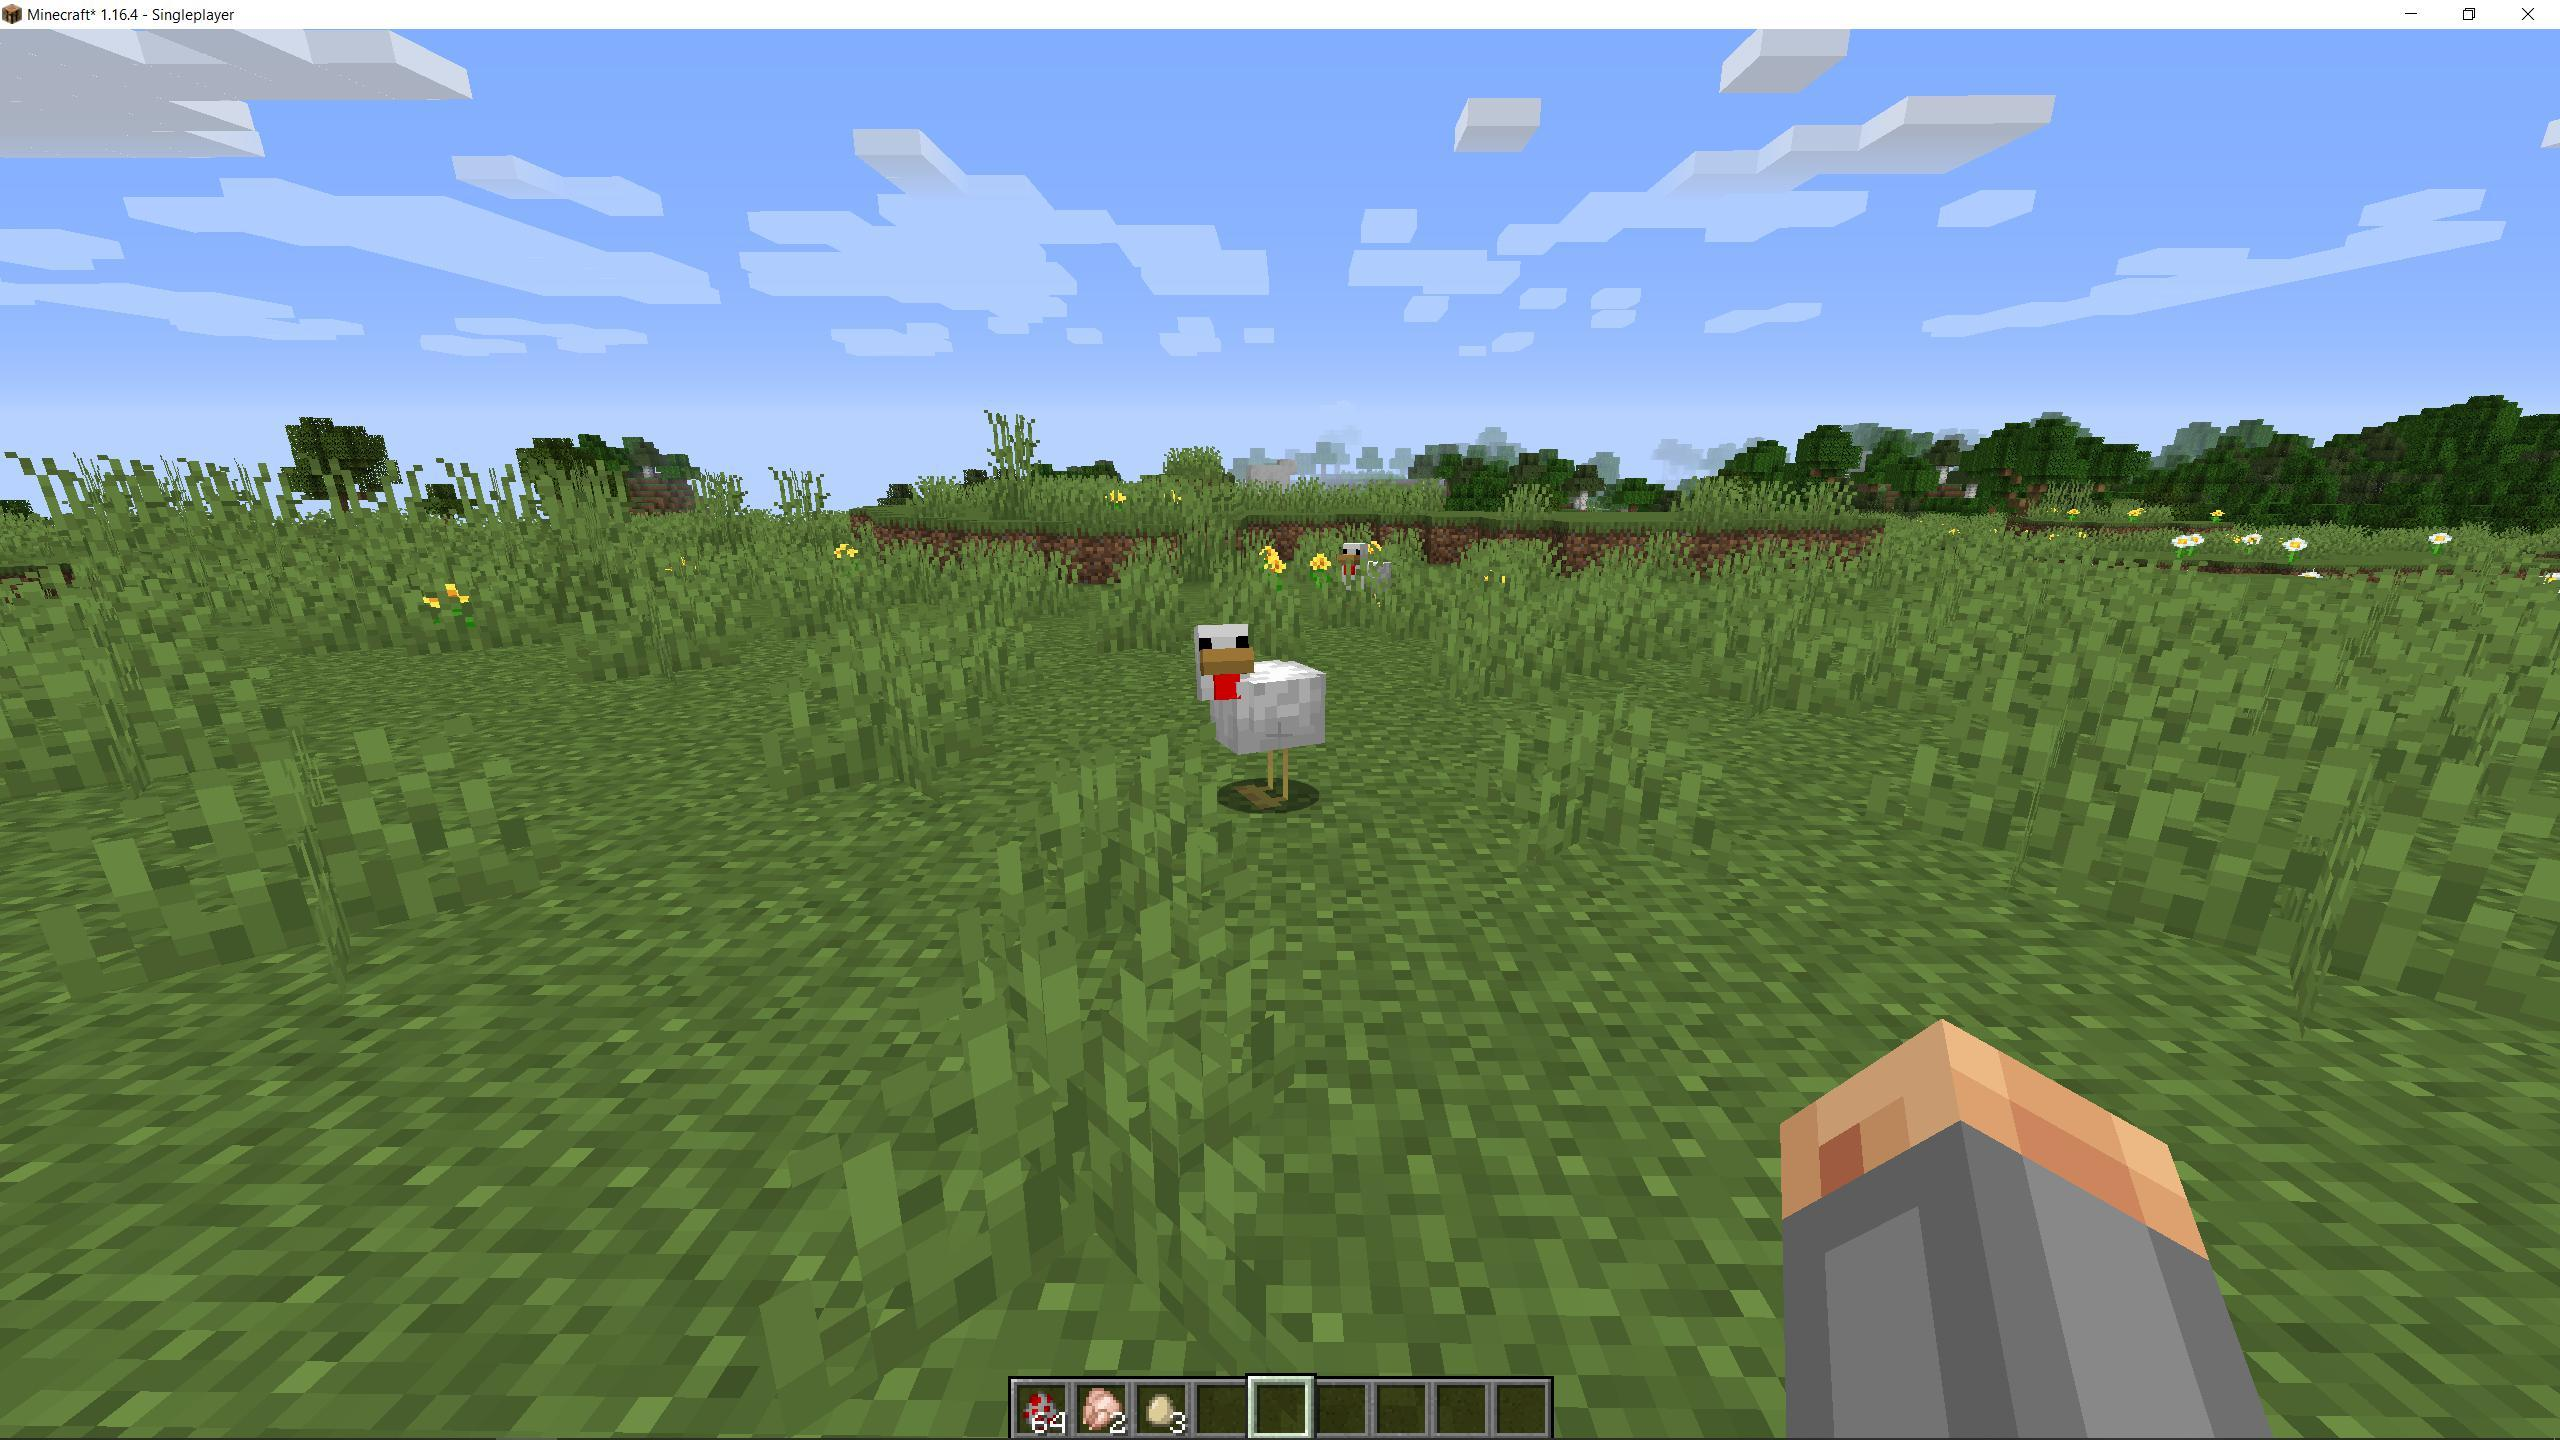chicken: (1182, 614, 1347, 823), (1327, 536, 1407, 614)
